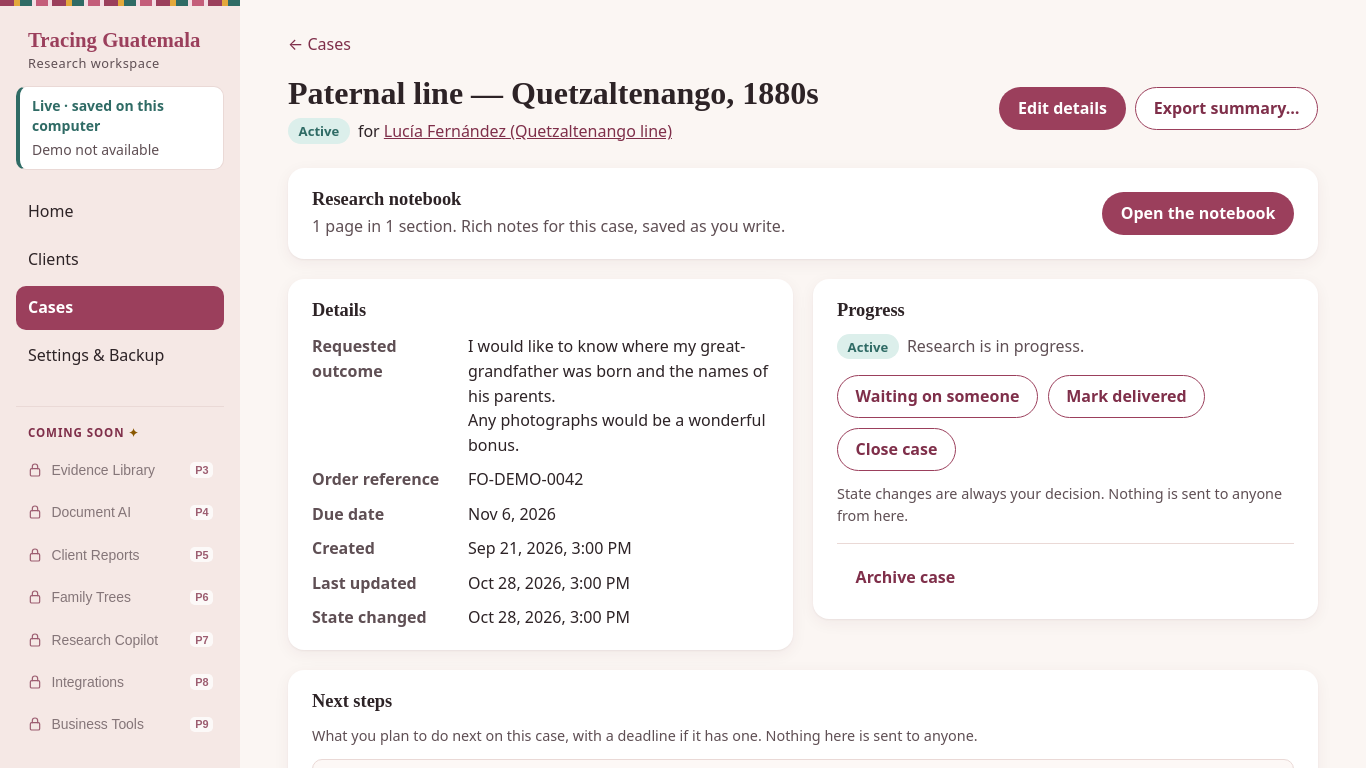
Test: export summary dialog › does nothing on Cancel or Escape
Click the button "Export summary…".
click(1227, 108)  # box [1135,87,1318,130]
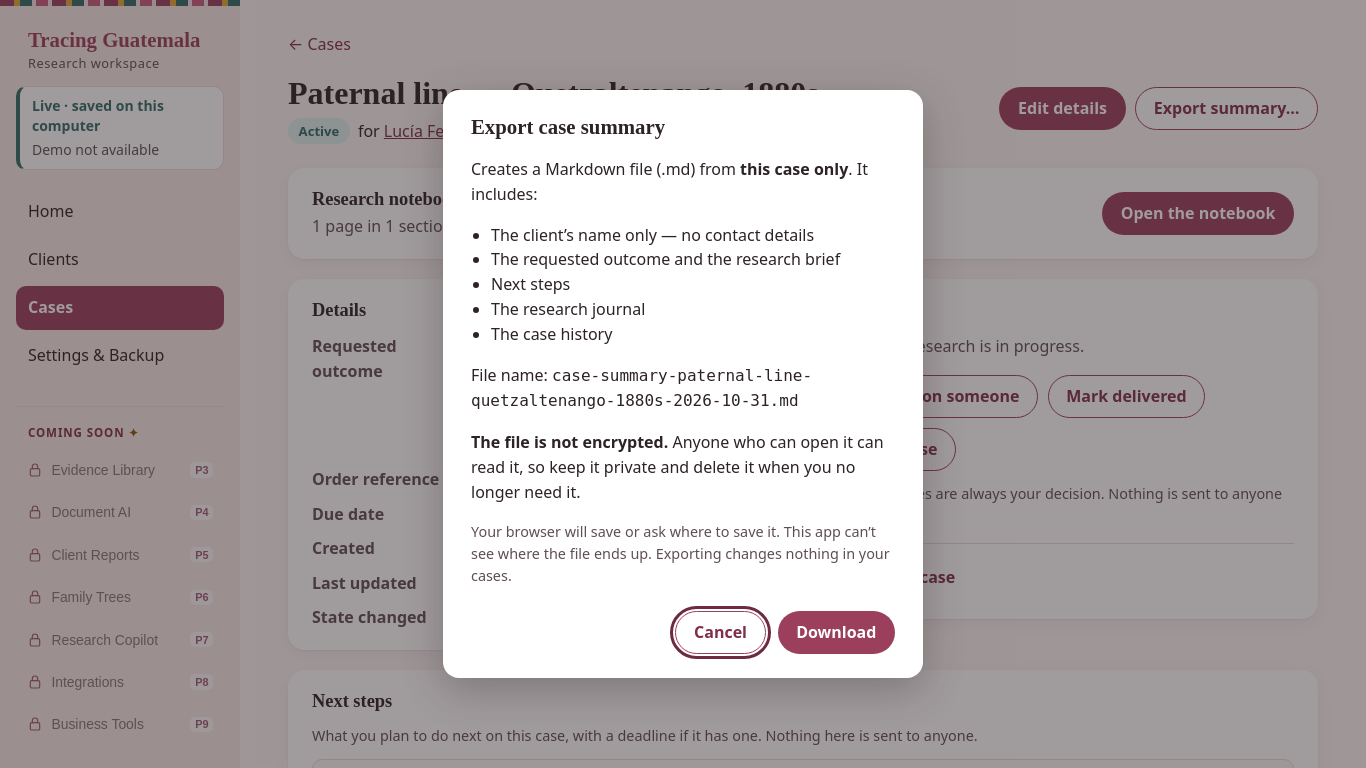
Click the button "Cancel".
click(721, 633)  # box [676,612,766,654]
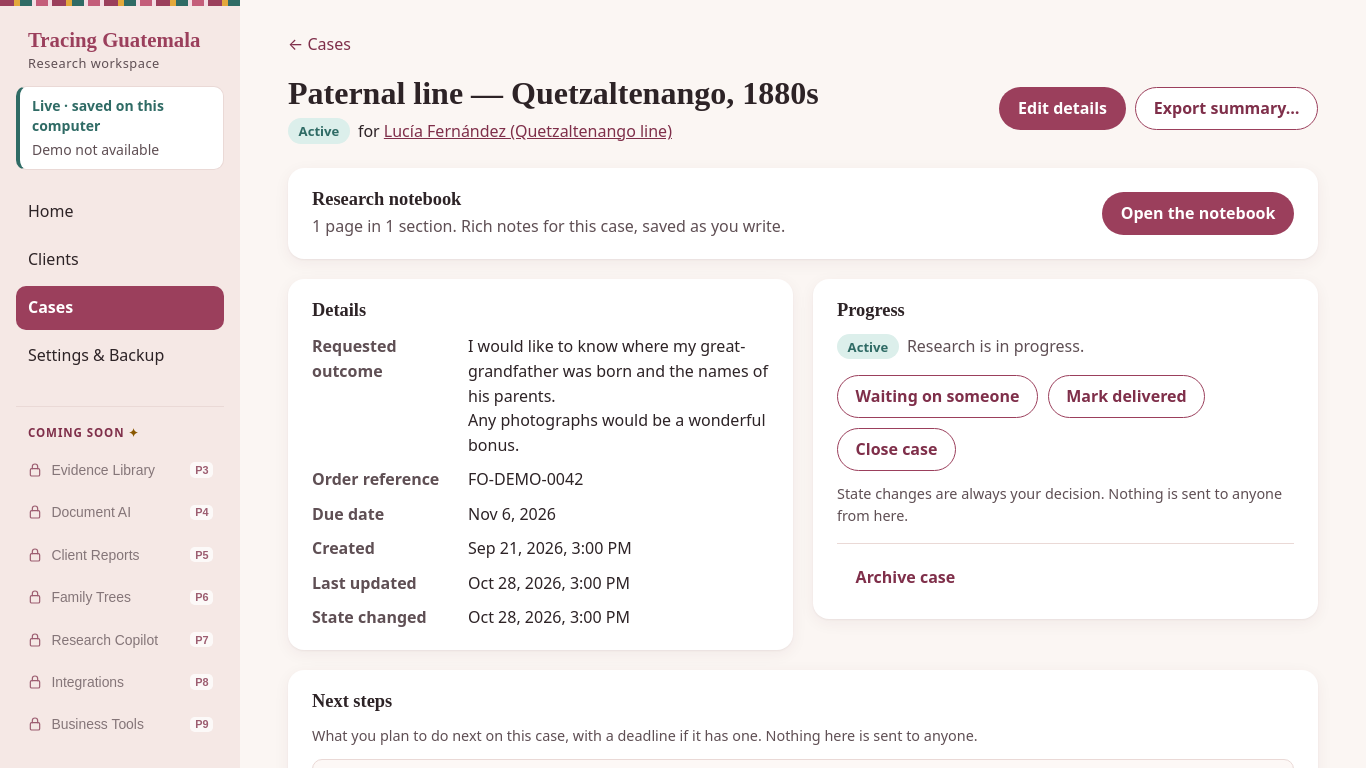
Expected: the dialog is gone
Click the button "Export summary…".
click(1227, 108)  # box [1135,87,1318,130]
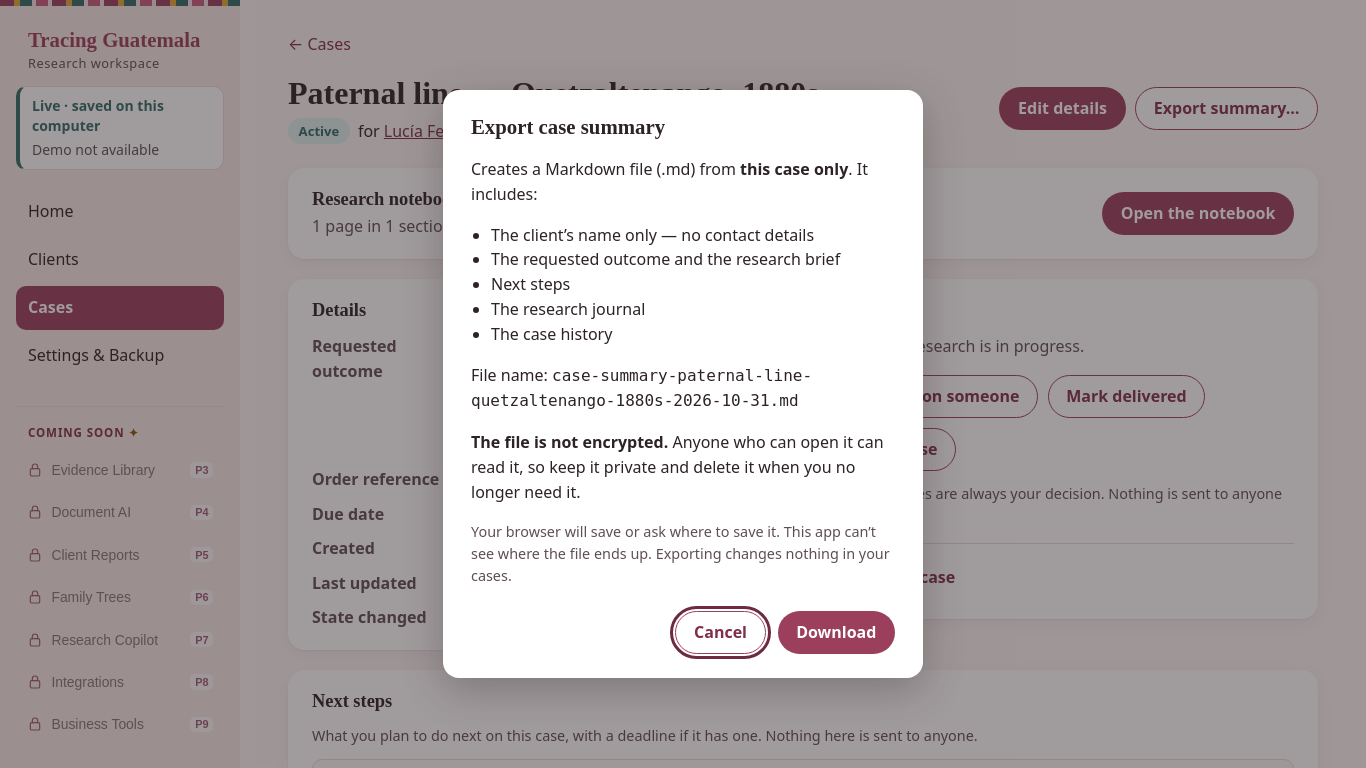
Press Escape in the dialog, box [443,90,923,678]
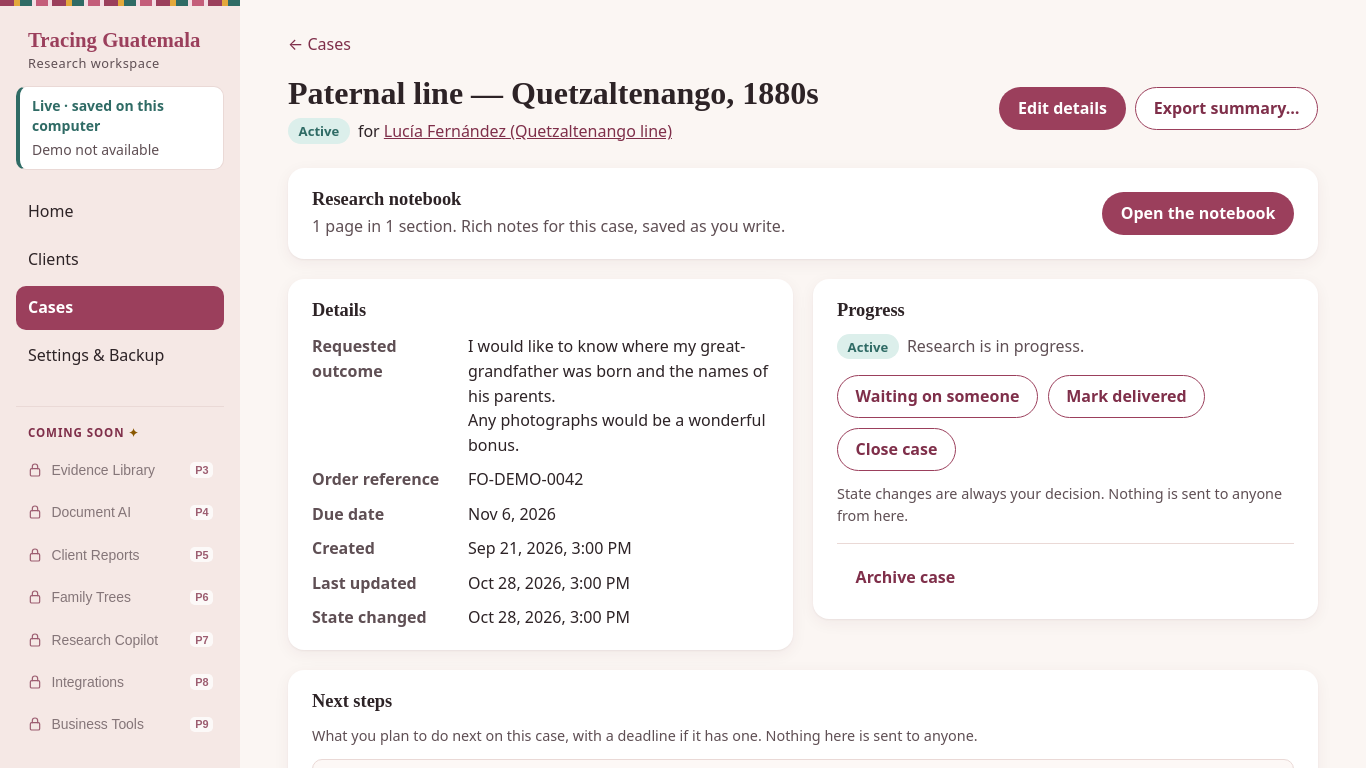
Expected: the dialog is gone
